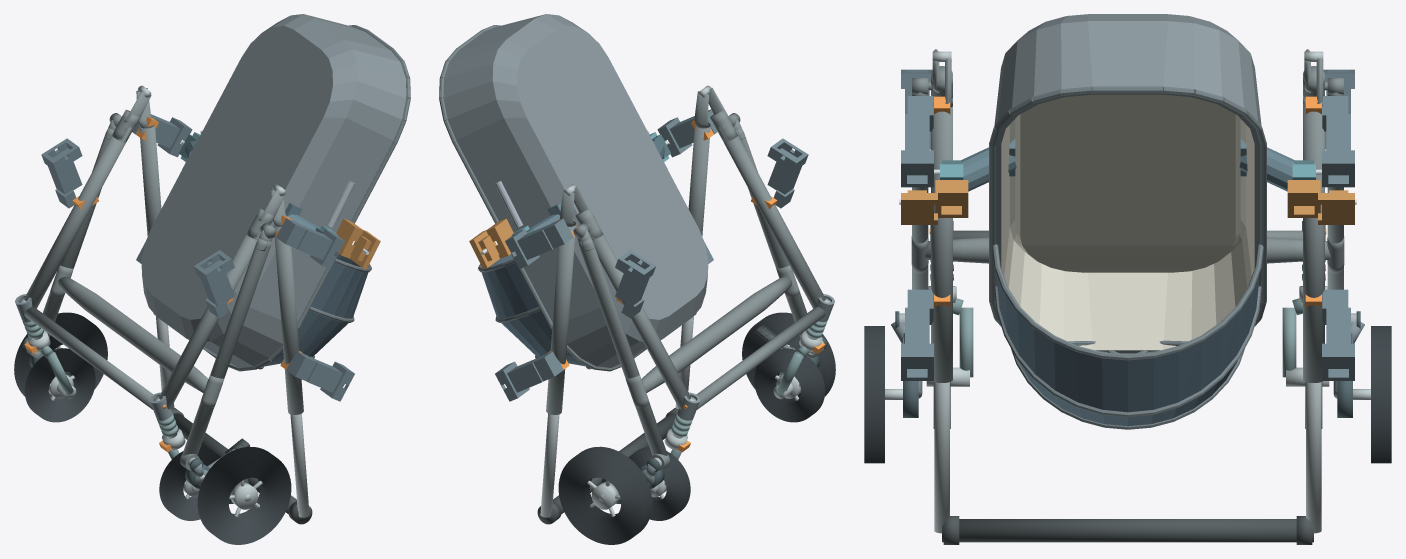
File: S06_w650_state3_wheel_S.glb
The picture shows the model from 3 angles, left to right: view 1: azimuth 30°, elevation 25°; view 2: azimuth 150°, elevation 25°; view 3: azimuth 270°, elevation 25°; orthographic projection. The views are drawn at different scales.
Parts seen in each view (by area): view 1: S06_Cabin, RL_tire.008, FR_tire.008, V46_rearbar.009, main_lower_1.009, V46_rear_leg_-1.009, main_upper_-1.009, main_lower_-1.009, front_fixed_round_tube.008, RR_tire.008, FL_tire.008, Universal_Cabin_Receiver_M_-1 (+12 smaller); view 2: S06_Cabin, RR_tire.008, FL_tire.008, V46_rearbar.009, main_lower_-1.009, V46_rear_leg_1.009, main_upper_1.009, main_lower_1.009, front_fixed_round_tube.008, FR_tire.008, RL_tire.008, Universal_Cabin_Receiver_M_1 (+13 smaller); view 3: S06_Cabin, round_handle.008, main_upper_1.009, main_upper_-1.009, S06_Cabin_Mount_M, RL_tire.008, RR_tire.008, Universal_Cabin_Receiver_M_-1, Universal_Cabin_Receiver_M_1, Universal_Cabin_Receiver_H_1, Universal_Cabin_Receiver_H_-1, D02_WideAdapter_M_-1 (+9 smaller).
Part boxes in pixels (x1=…): S06_Cabin: x1=141, y1=14, x2=410, y2=371; RL_tire.008: x1=197, y1=446, x2=291, y2=544; FR_tire.008: x1=24, y1=348, x2=95, y2=422; V46_rearbar.009: x1=58, y1=276, x2=208, y2=392; main_lower_1.009: x1=24, y1=127, x2=131, y2=308; V46_rear_leg_-1.009: x1=182, y1=238, x2=271, y2=455; main_upper_-1.009: x1=273, y1=224, x2=303, y2=414; main_lower_-1.009: x1=159, y1=232, x2=260, y2=409; front_fixed_round_tube.008: x1=24, y1=306, x2=153, y2=409; RR_tire.008: x1=14, y1=312, x2=107, y2=398; FL_tire.008: x1=159, y1=447, x2=220, y2=520; Universal_Cabin_Receiver_M_-1: x1=276, y1=218, x2=344, y2=268; S06_Cabin: x1=439, y1=14, x2=708, y2=371; RR_tire.008: x1=558, y1=446, x2=652, y2=544; FL_tire.008: x1=754, y1=348, x2=825, y2=422; V46_rearbar.009: x1=641, y1=276, x2=791, y2=392; main_lower_-1.009: x1=718, y1=127, x2=825, y2=308; V46_rear_leg_1.009: x1=578, y1=238, x2=667, y2=455; main_upper_1.009: x1=546, y1=223, x2=576, y2=414; main_lower_1.009: x1=589, y1=232, x2=690, y2=409; front_fixed_round_tube.008: x1=696, y1=306, x2=825, y2=409; FR_tire.008: x1=628, y1=447, x2=690, y2=520; RL_tire.008: x1=742, y1=312, x2=835, y2=398; Universal_Cabin_Receiver_M_1: x1=505, y1=218, x2=573, y2=268; S06_Cabin: x1=989, y1=14, x2=1266, y2=429; round_handle.008: x1=942, y1=519, x2=1313, y2=542; main_upper_1.009: x1=1303, y1=103, x2=1324, y2=382; main_upper_-1.009: x1=931, y1=106, x2=952, y2=382; S06_Cabin_Mount_M: x1=934, y1=139, x2=1321, y2=191; RL_tire.008: x1=864, y1=326, x2=884, y2=463; RR_tire.008: x1=1371, y1=326, x2=1391, y2=463; Universal_Cabin_Receiver_M_-1: x1=901, y1=96, x2=933, y2=187; Universal_Cabin_Receiver_M_1: x1=1322, y1=96, x2=1354, y2=187; Universal_Cabin_Receiver_H_1: x1=1322, y1=289, x2=1354, y2=380; Universal_Cabin_Receiver_H_-1: x1=901, y1=289, x2=933, y2=380; D02_WideAdapter_M_-1: x1=899, y1=180, x2=968, y2=224.
Bounding box in the file's own units: 0.6919 × 0.9377 × 0.766.
